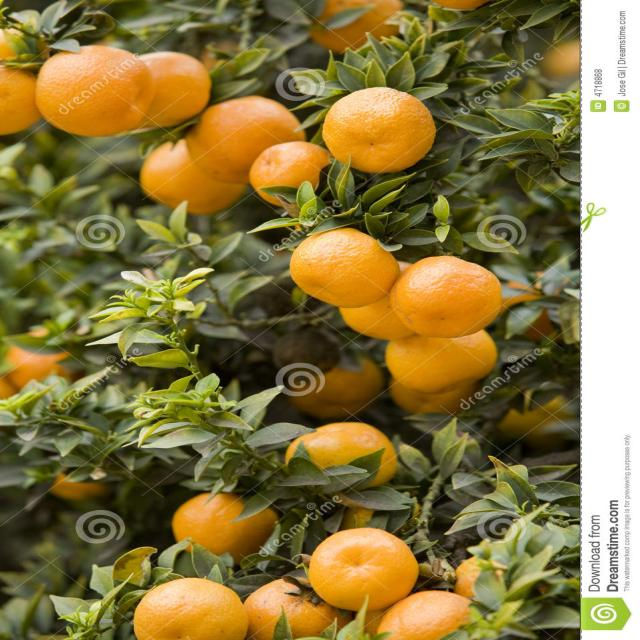apple: (36, 44, 156, 140), (322, 85, 440, 172), (392, 254, 507, 342), (309, 524, 423, 612), (288, 225, 400, 310), (200, 98, 306, 183), (139, 138, 255, 213), (283, 421, 402, 491), (336, 258, 430, 342), (387, 330, 506, 393), (170, 491, 285, 556), (132, 579, 250, 640), (243, 576, 352, 640), (379, 585, 484, 640), (139, 46, 211, 126), (245, 141, 335, 205), (2, 61, 46, 145)
